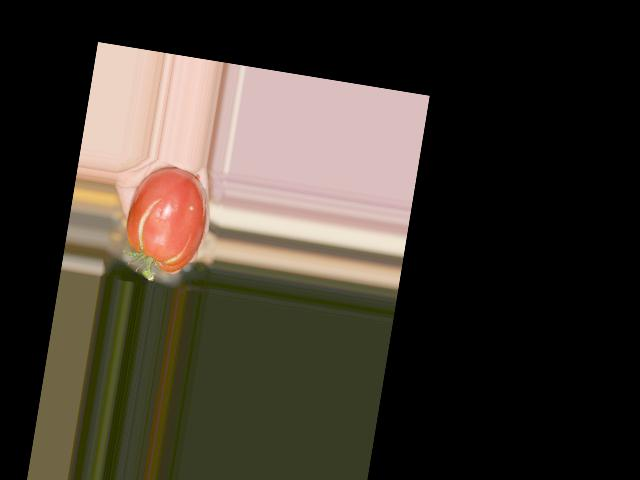tomato: (121, 162, 214, 277)
